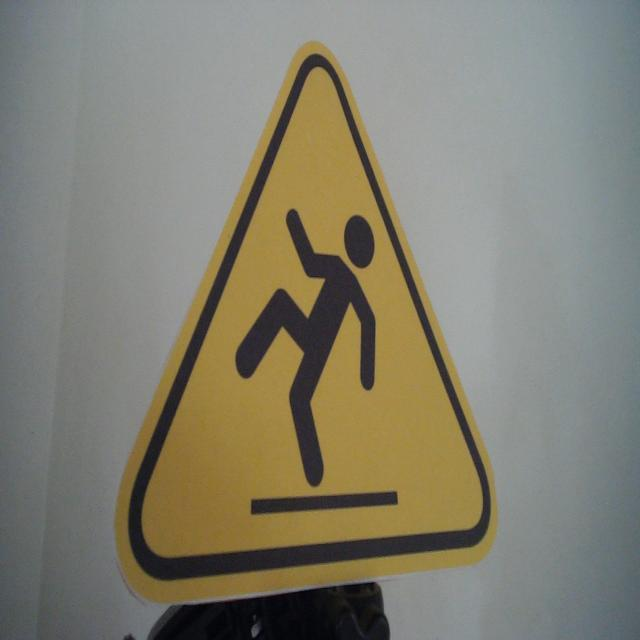slippery_sign: (110, 38, 500, 610)
